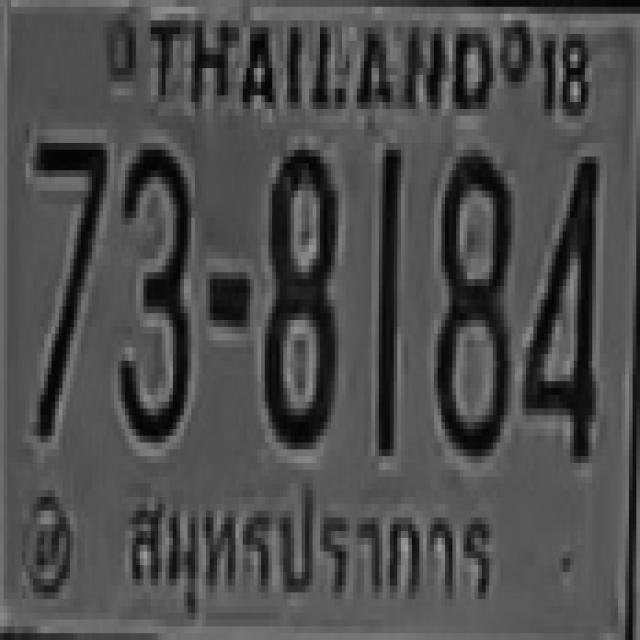1: (375, 150, 397, 449)
3: (118, 140, 188, 439)
4: (522, 150, 596, 456)
7: (33, 136, 103, 436)
8: (436, 146, 509, 453), (261, 143, 335, 443)
SamutPrakan: (116, 474, 503, 622)
